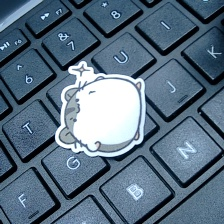mouse: (52, 59, 150, 159)
